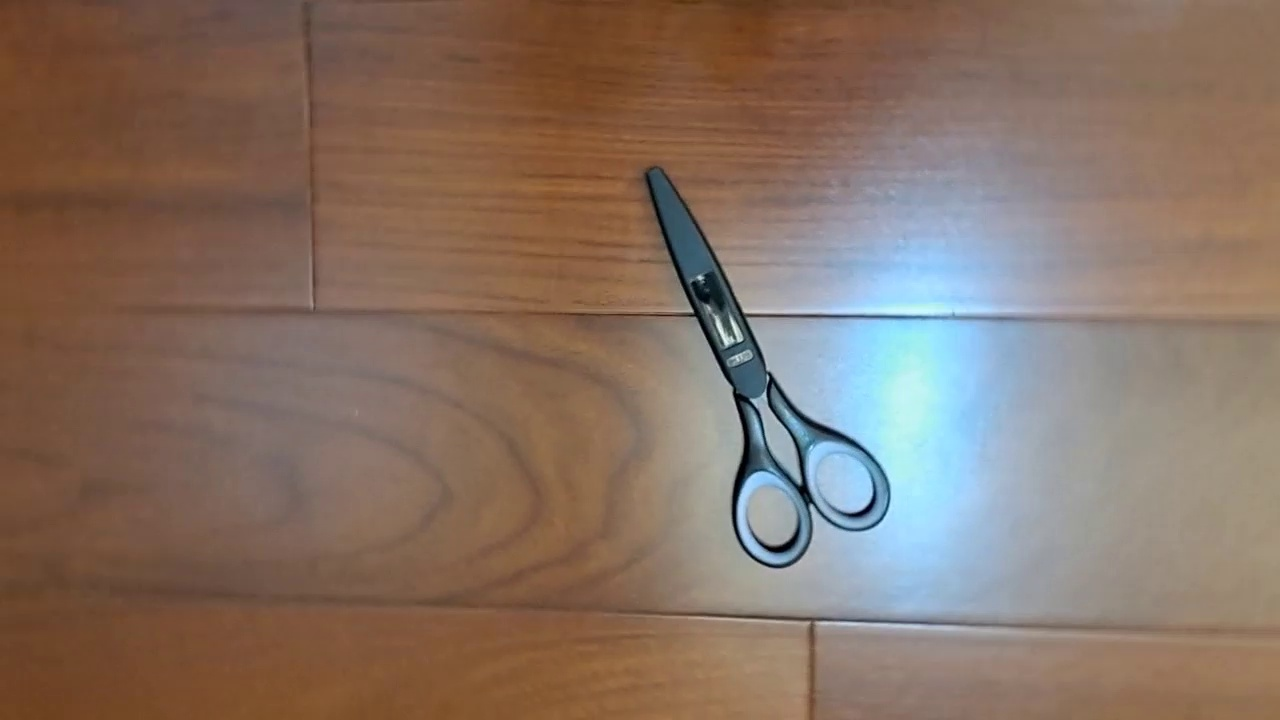scissors: (642, 164, 891, 568)
